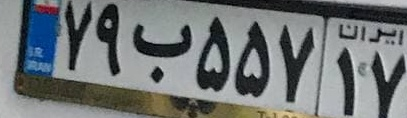character: (129, 13, 195, 86), (231, 13, 273, 104), (274, 19, 317, 107), (195, 7, 231, 94), (369, 47, 407, 118), (94, 2, 126, 79), (61, 1, 94, 72), (334, 42, 364, 118)
